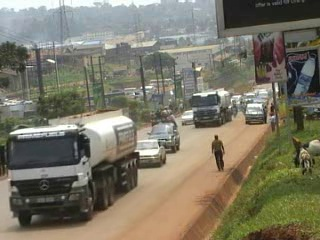Car: (140, 120, 182, 154), (131, 135, 168, 169), (179, 108, 197, 126)
Motorcycle: (228, 99, 238, 119), (239, 97, 248, 117)
